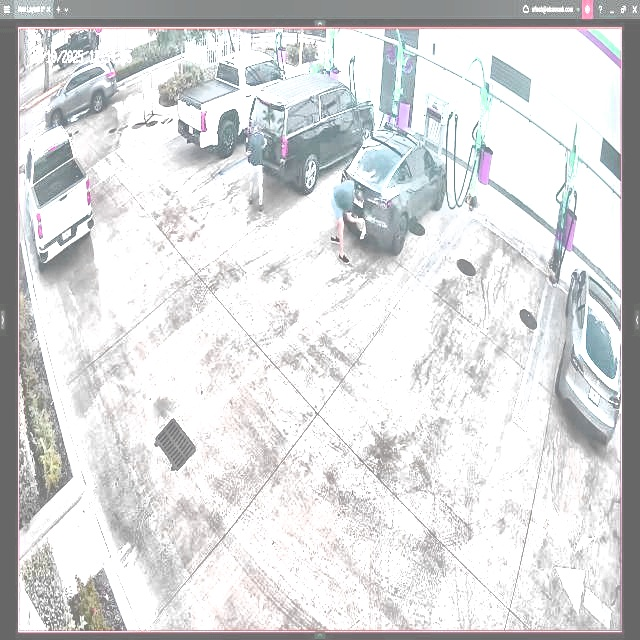Car: (248, 76, 374, 191), (175, 52, 300, 156), (345, 124, 445, 249)
